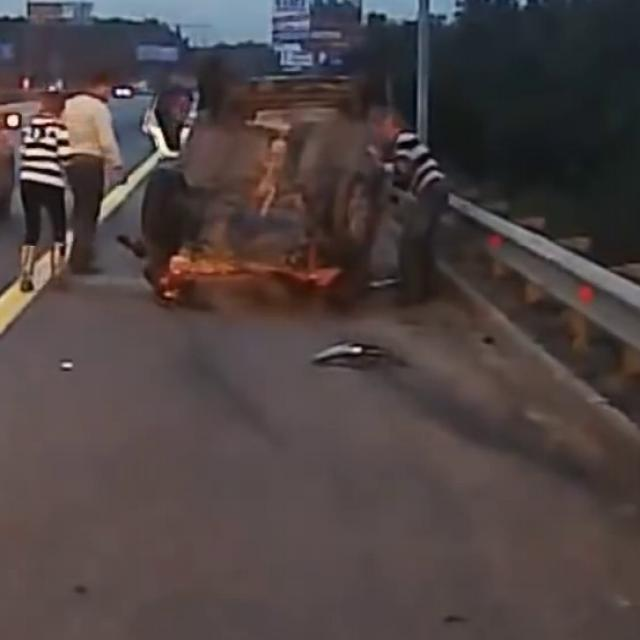accident: (130, 53, 392, 308)
